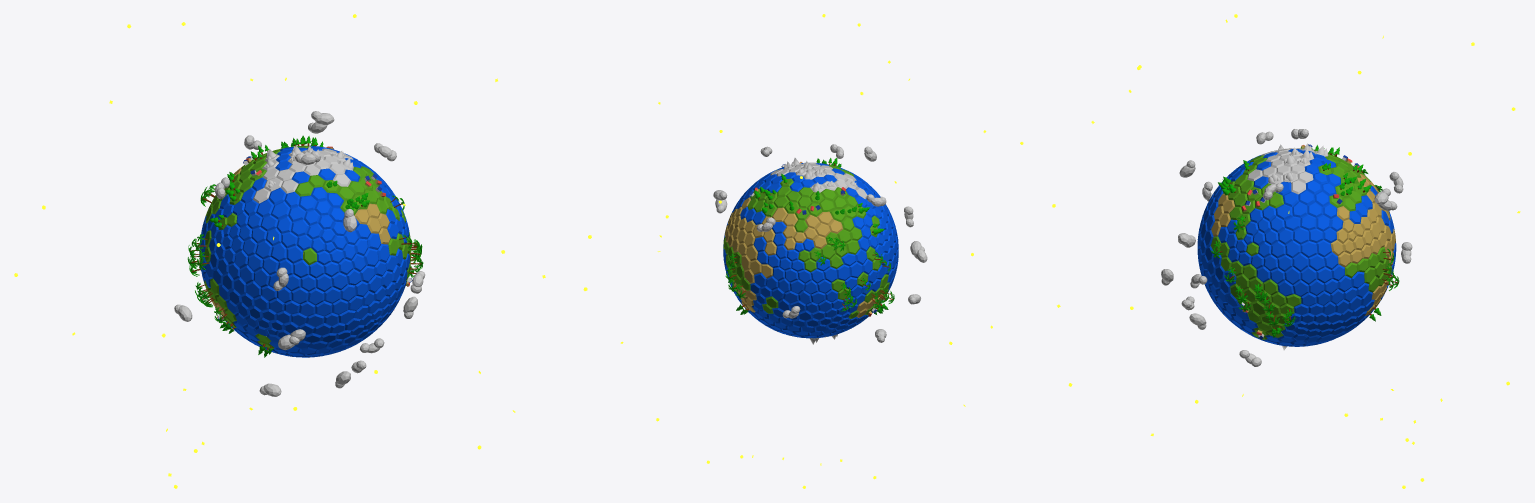
Rendered from Earth-transformed.glb.
The picture shows the model from 3 angles, left to right: view 1: azimuth 30°, elevation 25°; view 2: azimuth 150°, elevation 25°; view 3: azimuth 270°, elevation 25°; orthographic projection. The views are drawn at different scales.
Visible parts, largest first — view 1: Earth, Clouds and Stars, Earth Details; view 2: Earth, Earth Details, Clouds and Stars; view 3: Earth, Earth Details, Clouds and Stars.
Part boxes in pixels (<box>): Earth: <box>199,145,411,357</box>; Clouds and Stars: <box>14,14,591,488</box>; Earth Details: <box>187,135,423,357</box>; Earth: <box>723,162,898,338</box>; Earth Details: <box>725,158,894,344</box>; Clouds and Stars: <box>620,14,1023,488</box>; Earth: <box>1197,148,1396,346</box>; Earth Details: <box>1211,143,1399,350</box>; Clouds and Stars: <box>1052,14,1520,488</box>.
Size of the model in its own units: 18.1 by 18.4 by 17.05.
